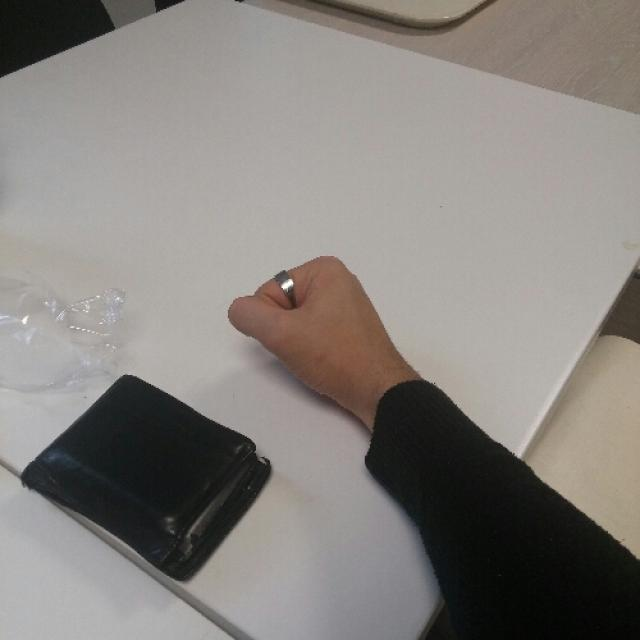fist: (222, 255, 394, 402)
